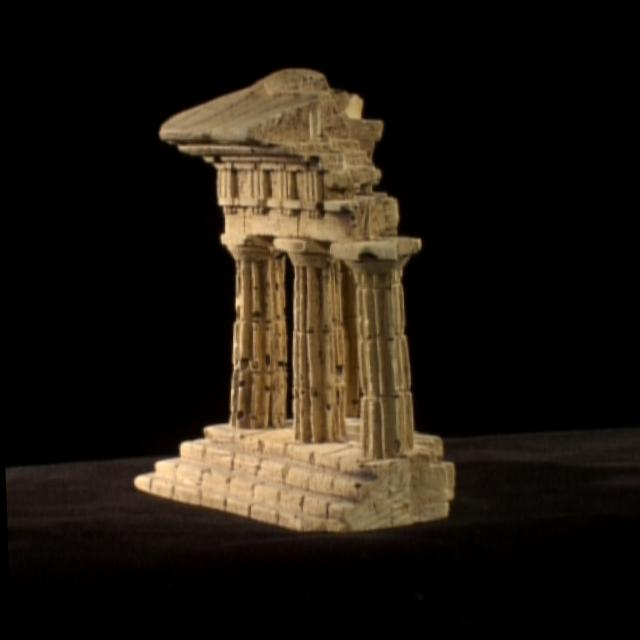Instance-Segmentation: (136, 68, 453, 529)
